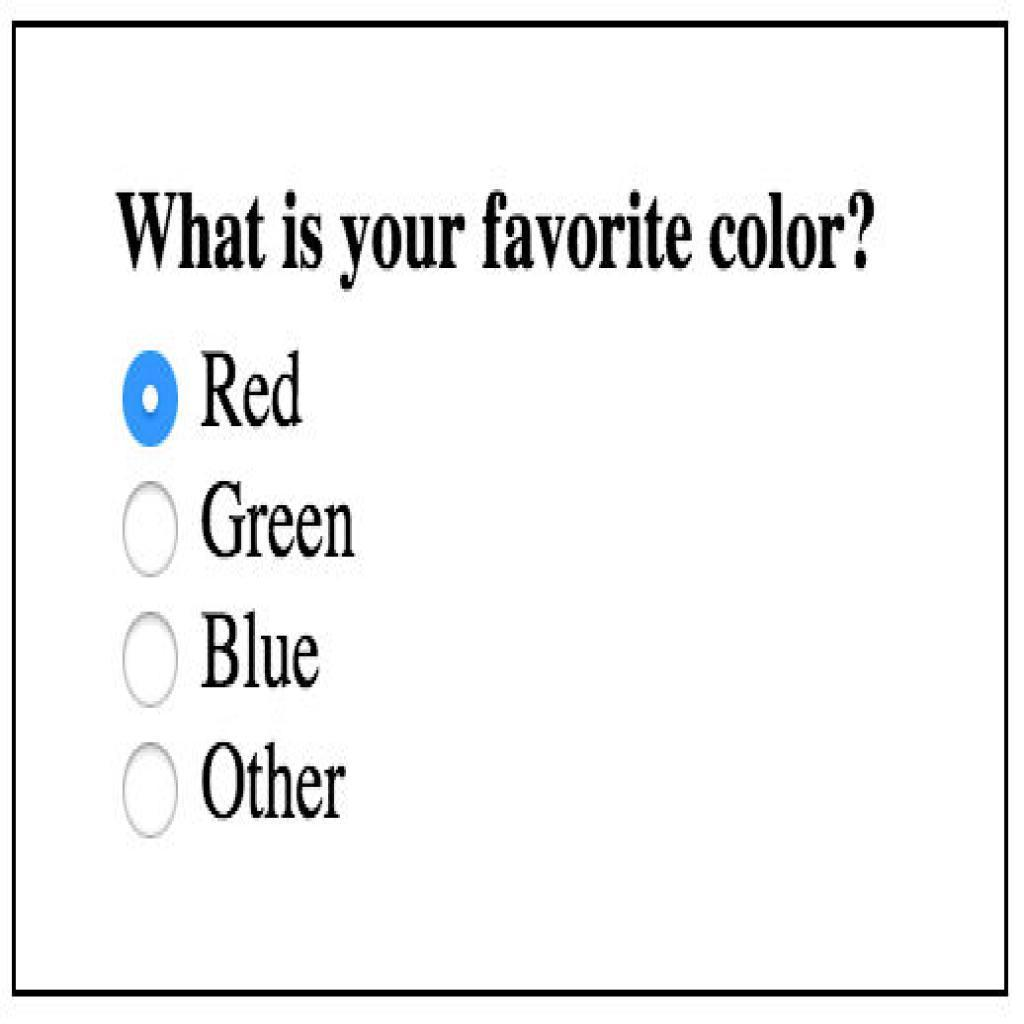radio: (120, 737, 179, 846), (121, 350, 185, 447), (120, 482, 184, 579), (122, 614, 185, 709)
